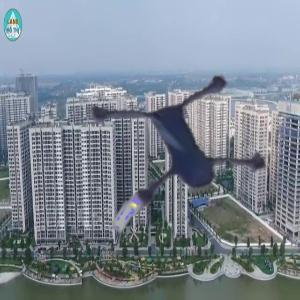drone: (39, 23, 292, 276)
